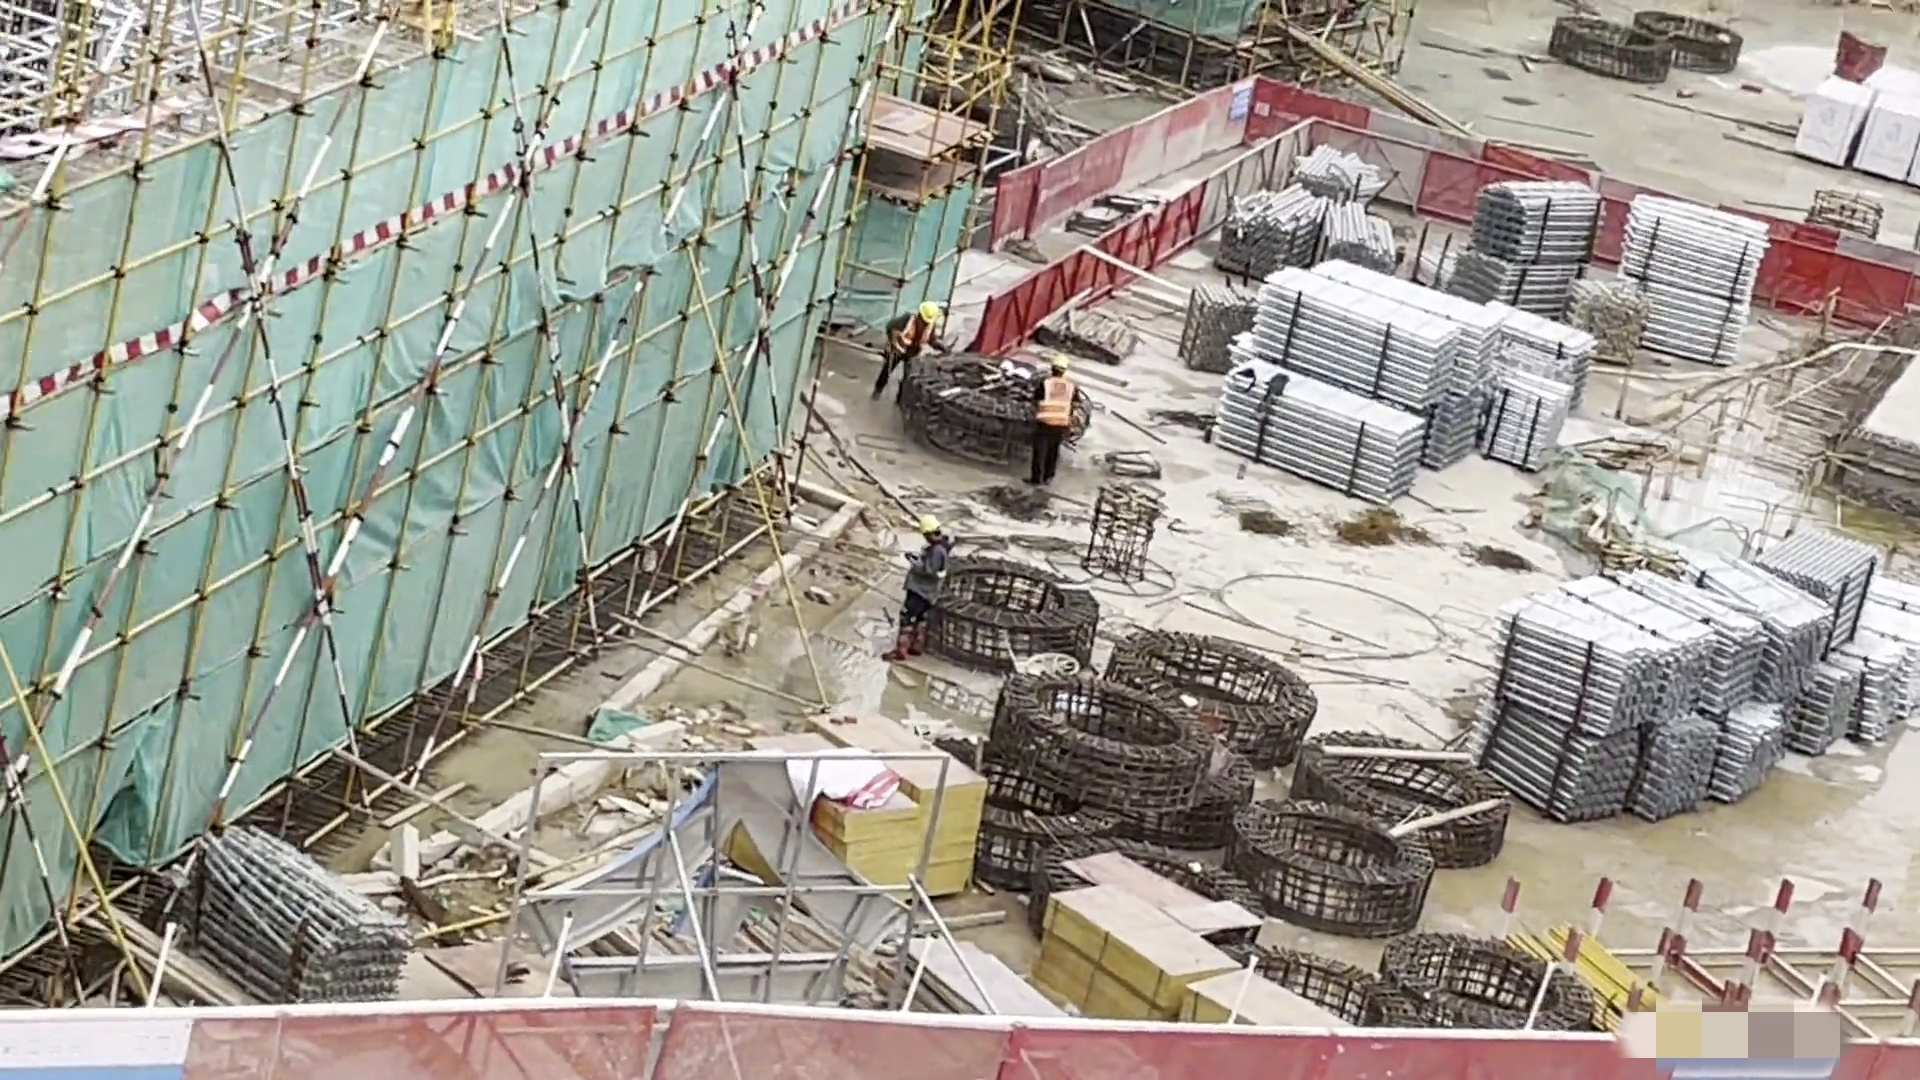board: (1018, 824, 1330, 1070), (787, 715, 1010, 932)
fence: (1276, 72, 1920, 385), (28, 992, 1920, 1080), (982, 56, 1317, 342)
helmet: (914, 296, 952, 322), (1049, 353, 1068, 369)
person: (869, 295, 943, 400), (1031, 345, 1079, 492)
scaffold: (1488, 598, 1730, 834), (168, 806, 445, 1007), (1717, 536, 1920, 797), (1222, 361, 1420, 516), (1617, 189, 1758, 370), (1443, 167, 1597, 323), (1257, 274, 1444, 399), (1228, 150, 1397, 267), (1442, 300, 1529, 475)
vest: (1035, 371, 1075, 433), (891, 311, 937, 364)
